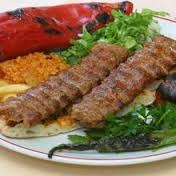kebap: (0, 43, 127, 126), (71, 36, 175, 126)
